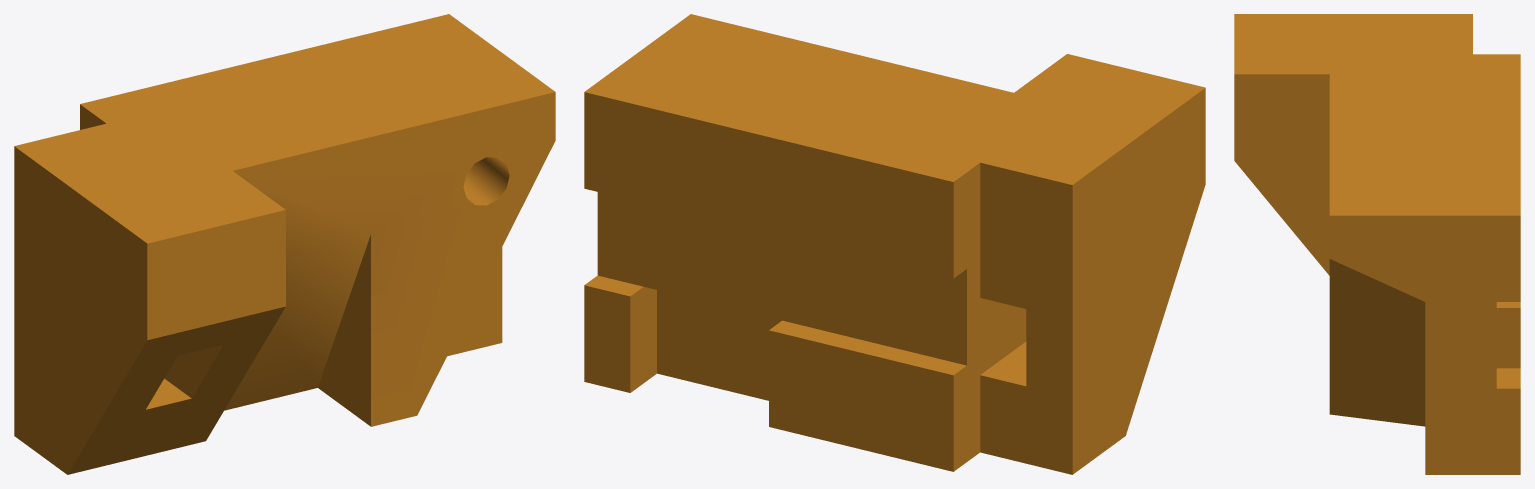
File: peca3.glb
3 renders of one model, left to right at view 1: azimuth 30°, elevation 25°; view 2: azimuth 150°, elevation 25°; view 3: azimuth 270°, elevation 25°, orthographic. The views are drawn at different scales.
Parts seen in each view (by area): view 1: 3D_Solid; view 2: 3D_Solid; view 3: 3D_Solid.
Boxes of the visible parts, x1,y1,x2,y2 form: 3D_Solid: (14, 14, 555, 474); 3D_Solid: (584, 14, 1205, 474); 3D_Solid: (1234, 14, 1520, 474).
Bounding box in the file's own units: 100 × 60 × 60.
